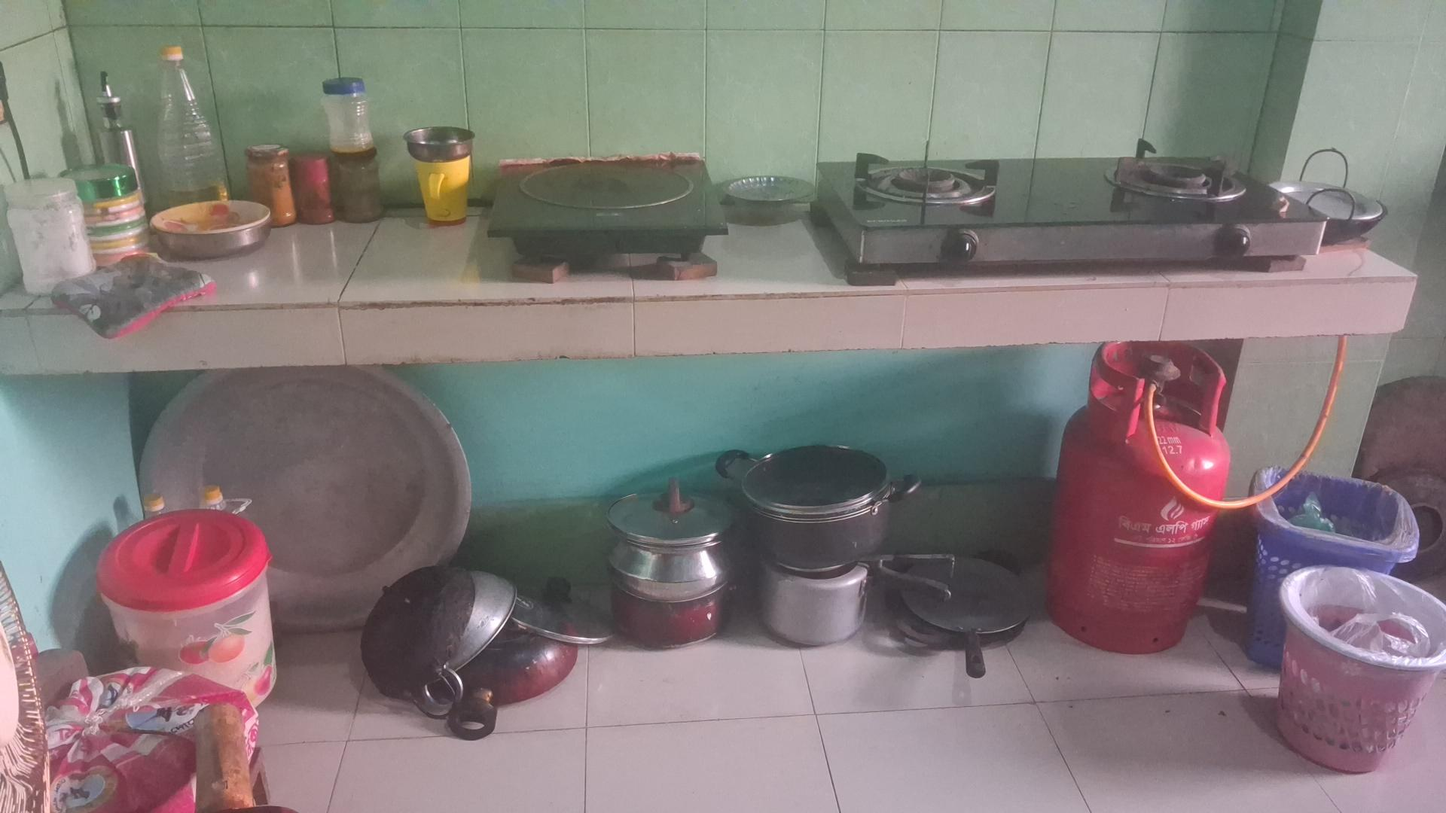Basket: (1284, 559, 1446, 779), (1256, 470, 1416, 672)
Bottle: (150, 41, 234, 195)
Bowl: (150, 197, 271, 251), (729, 169, 813, 225)
Jar: (95, 509, 282, 713), (321, 69, 382, 152)
Pot: (711, 447, 922, 568)
